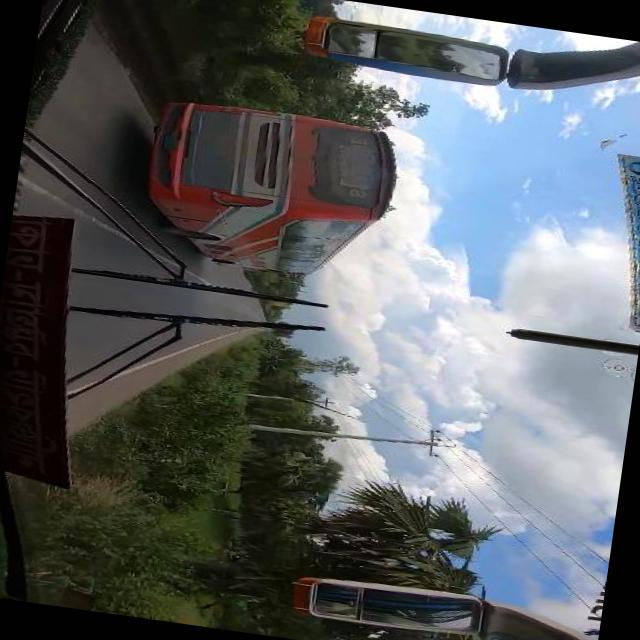bus: (140, 96, 406, 292)
